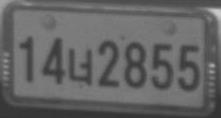1: (17, 35, 39, 81)
2: (97, 39, 119, 87)
4: (42, 37, 66, 85)
5: (150, 44, 175, 89), (177, 45, 200, 91)
8: (124, 41, 147, 88)
너: (67, 49, 93, 85)
